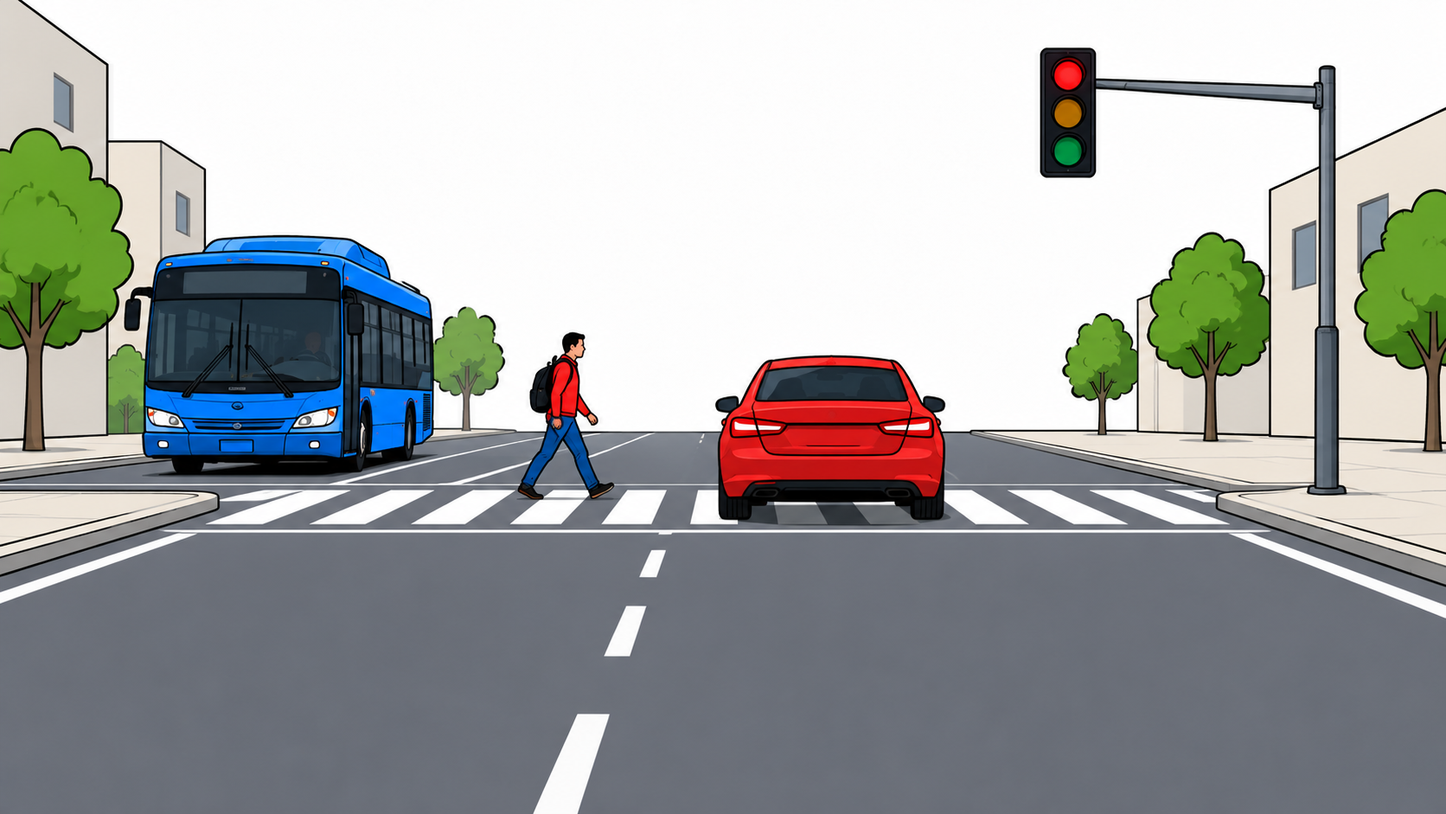bus: (125, 235, 441, 471)
car: (714, 354, 947, 523)
person: (514, 333, 616, 499)
traffic_light: (1038, 47, 1097, 178)
zebra_crossing: (0, 474, 1445, 537)
